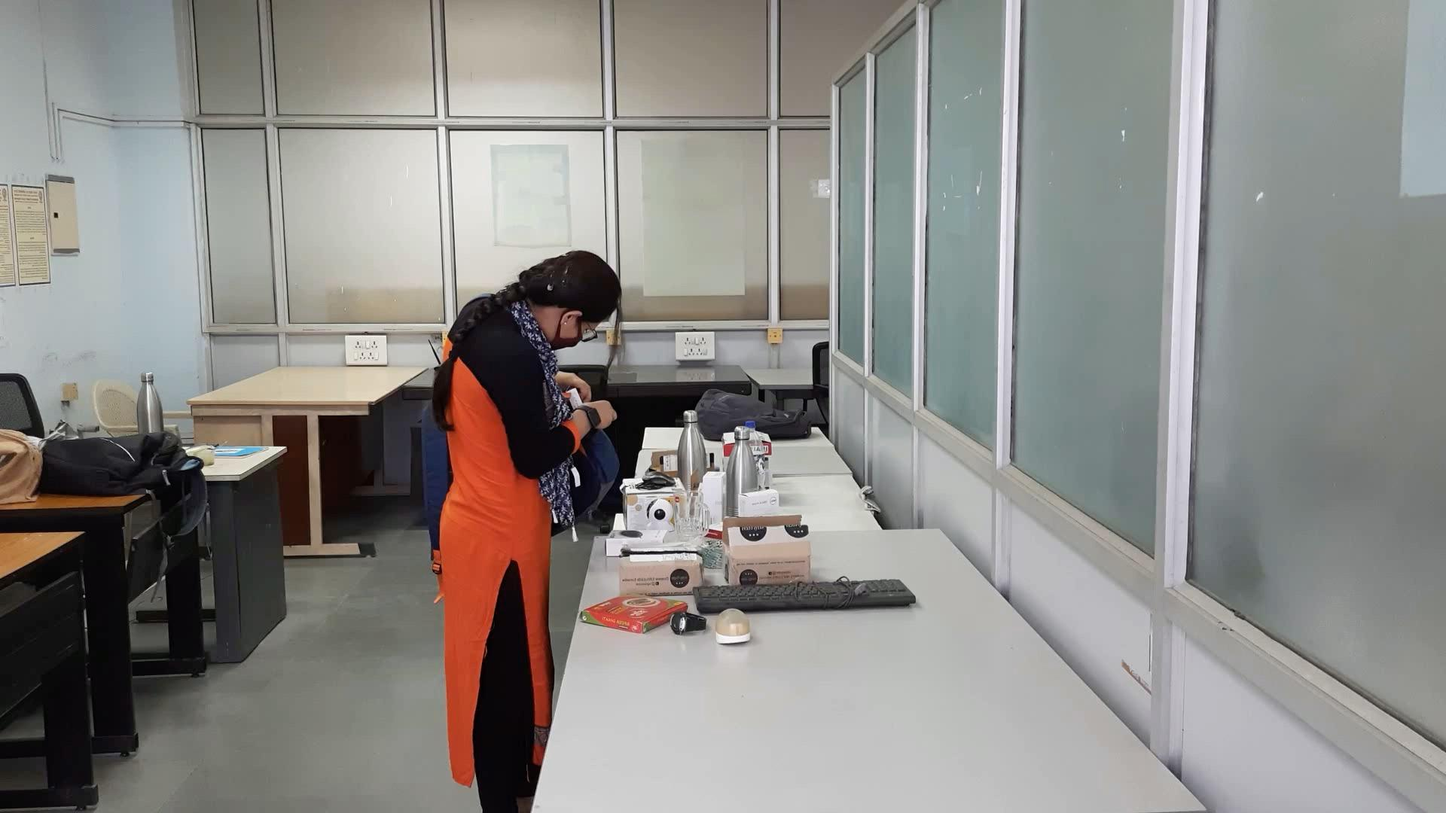shoplifting: (535, 371, 639, 531)
